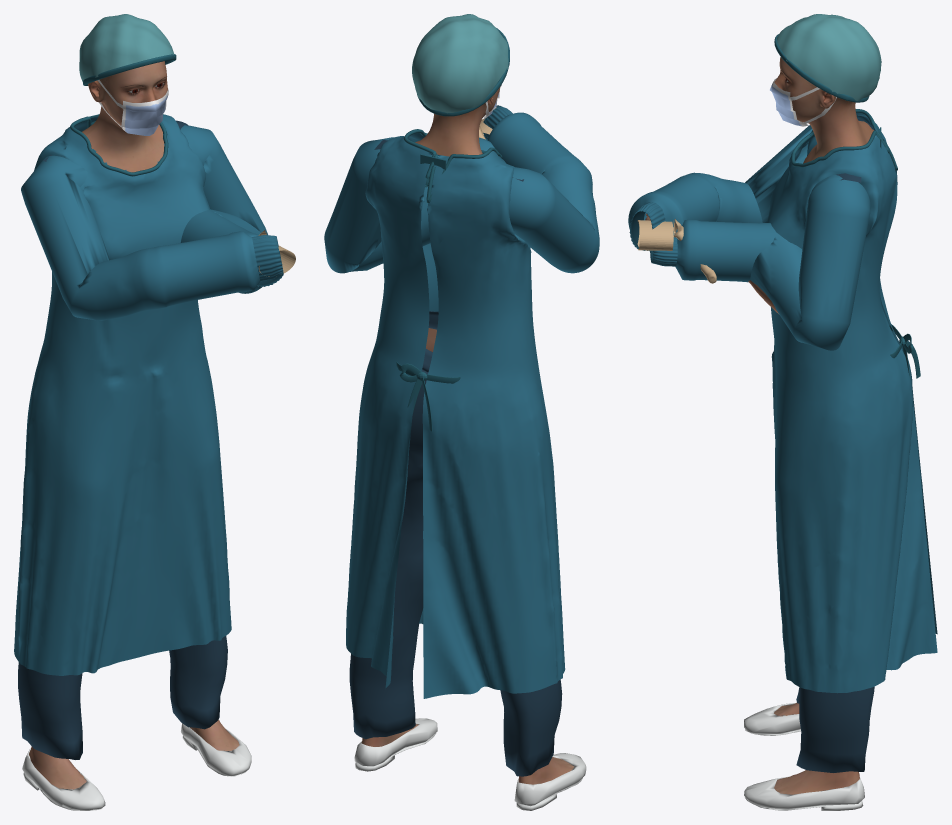
Rendered from paso-6.glb.
3 views of the same model, side by side, from view 1: azimuth 30°, elevation 25°; view 2: azimuth 150°, elevation 25°; view 3: azimuth 270°, elevation 25° (orthographic).
Visible parts, largest first — view 1: v2-gown, Human.toigo_wool_pants-static, Human-static, surgical-cap, Human.toigo_flats-static, Human.joepal_medical_mouth_protection-static, v2-cuff-R, v2-neck-binding, cap-elastic; view 2: v2-gown, Human.toigo_wool_pants-static, surgical-cap, Human-static, Human.toigo_flats-static, v2-neck-binding, cap-elastic; view 3: v2-gown, surgical-cap, Human-static, Human.toigo_wool_pants-static, Human.toigo_flats-static, v2-loose-glove-open-cuff, Human.joepal_medical_mouth_protection-static, v2-neck-binding, v2-cuff-R, cap-elastic.
Boxes of the visible parts, left/top/right/bottom form: v2-gown: left=14, top=114, right=267, bottom=675; Human.toigo_wool_pants-static: left=18, top=636, right=227, bottom=759; Human-static: left=29, top=61, right=239, bottom=789; surgical-cap: left=79, top=14, right=174, bottom=81; Human.toigo_flats-static: left=22, top=723, right=251, bottom=810; Human.joepal_medical_mouth_protection-static: left=97, top=80, right=168, bottom=135; v2-cuff-R: left=252, top=235, right=283, bottom=281; v2-neck-binding: left=70, top=116, right=168, bottom=176; cap-elastic: left=83, top=54, right=176, bottom=85; v2-gown: left=324, top=112, right=599, bottom=698; Human.toigo_wool_pants-static: left=349, top=311, right=562, bottom=776; surgical-cap: left=412, top=14, right=508, bottom=113; Human-static: left=361, top=86, right=574, bottom=784; Human.toigo_flats-static: left=354, top=718, right=586, bottom=810; v2-neck-binding: left=403, top=129, right=502, bottom=203; cap-elastic: left=417, top=28, right=509, bottom=116; v2-gown: left=628, top=113, right=937, bottom=693; surgical-cap: left=777, top=14, right=881, bottom=100; Human-static: left=645, top=57, right=873, bottom=794; Human.toigo_wool_pants-static: left=796, top=686, right=874, bottom=772; Human.toigo_flats-static: left=744, top=703, right=864, bottom=810; v2-loose-glove-open-cuff: left=637, top=220, right=673, bottom=250; Human.joepal_medical_mouth_protection-static: left=770, top=78, right=836, bottom=126; v2-neck-binding: left=791, top=109, right=897, bottom=170; v2-cuff-R: left=629, top=202, right=665, bottom=250; cap-elastic: left=774, top=34, right=869, bottom=102.
Bounding box in the file's own units: 0.5692 × 1.7 × 0.6376.
Materials: 20 (9 with a texture image).
